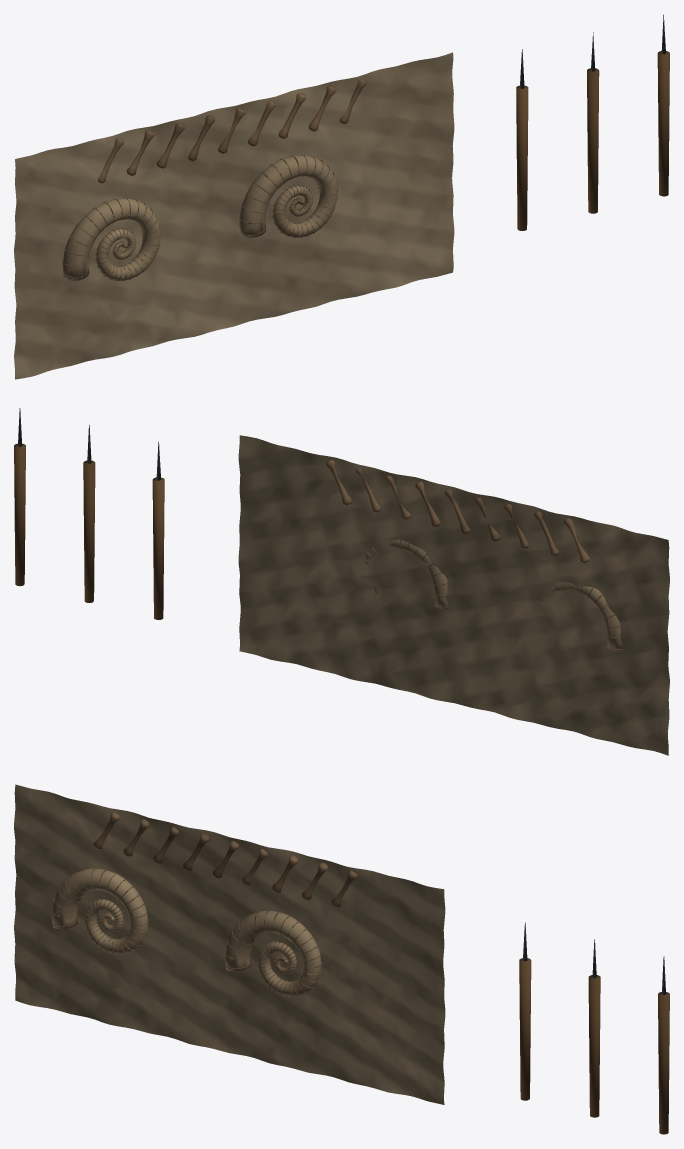
3 renders of one model, top to bottom at view 1: azimuth 30°, elevation 25°; view 2: azimuth 150°, elevation 25°; view 3: azimuth 330°, elevation 25°, orthographic. The views are drawn at different scales.
Visible parts, largest first — view 1: F02_SPEC_Bark_export; view 2: F02_SPEC_Bark_export; view 3: F02_SPEC_Bark_export.
Part boxes in pixels (<box>): F02_SPEC_Bark_export: <box>14,14,669,379</box>; F02_SPEC_Bark_export: <box>14,408,669,755</box>; F02_SPEC_Bark_export: <box>14,784,669,1134</box>.
Size of the model in its own units: 3.92 by 1.25 by 0.2207.
